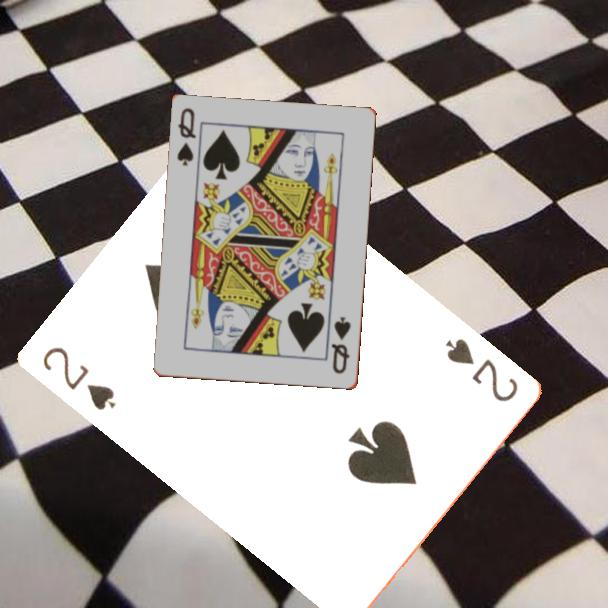s02: (39, 343, 120, 414), (442, 334, 522, 405)
s12: (328, 314, 354, 377), (174, 105, 199, 169)
